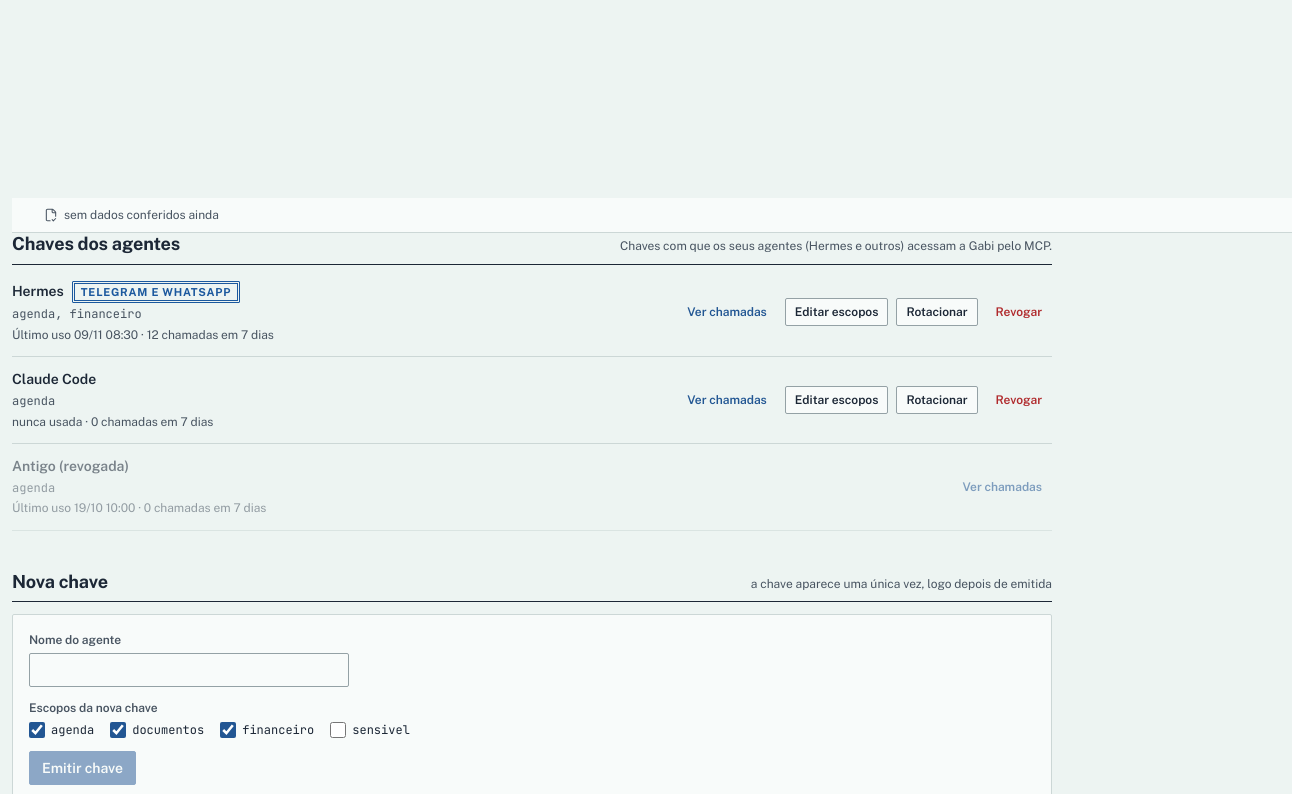
Test: Cancelar em editar escopos descarta a edição
(page scrolled)
Expected: the text "Hermes" is shown, [12,282,64,302]
Step 1. Click the button with aria-label "Editar escopos de Claude Code" → (837, 400), box [785,386,888,414]
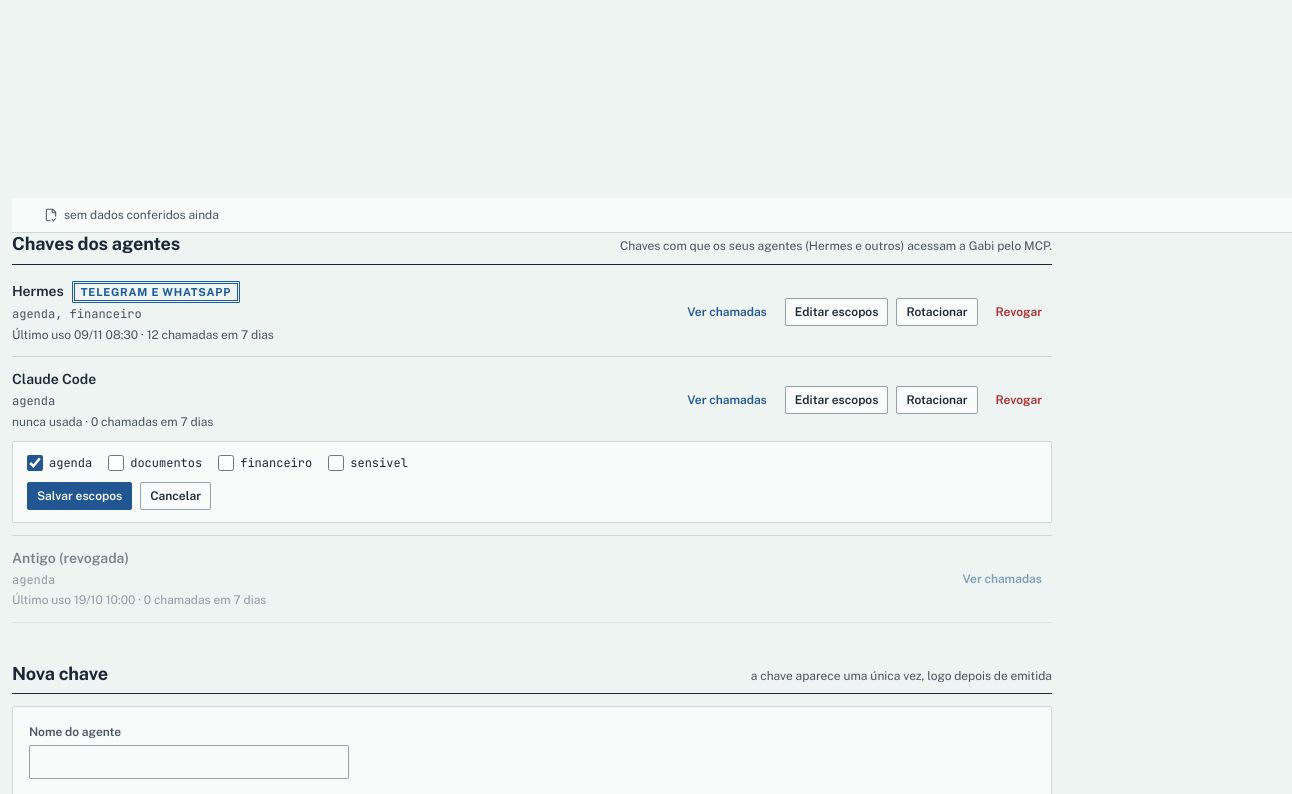
Step 2. Click the checkbox labelled "financeiro" → (226, 463), box [218,455,234,471]
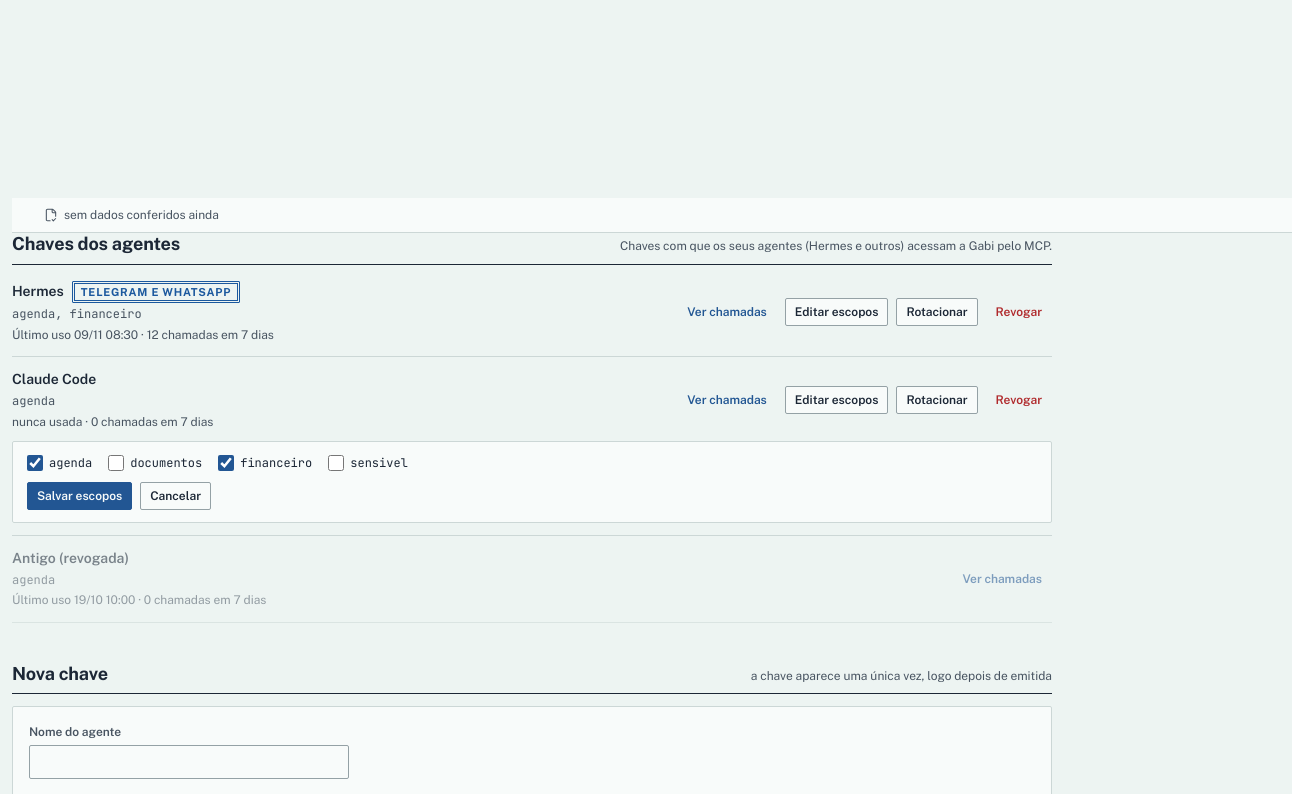
Step 3. Click the button "Cancelar" → (176, 496), box [140,482,211,510]
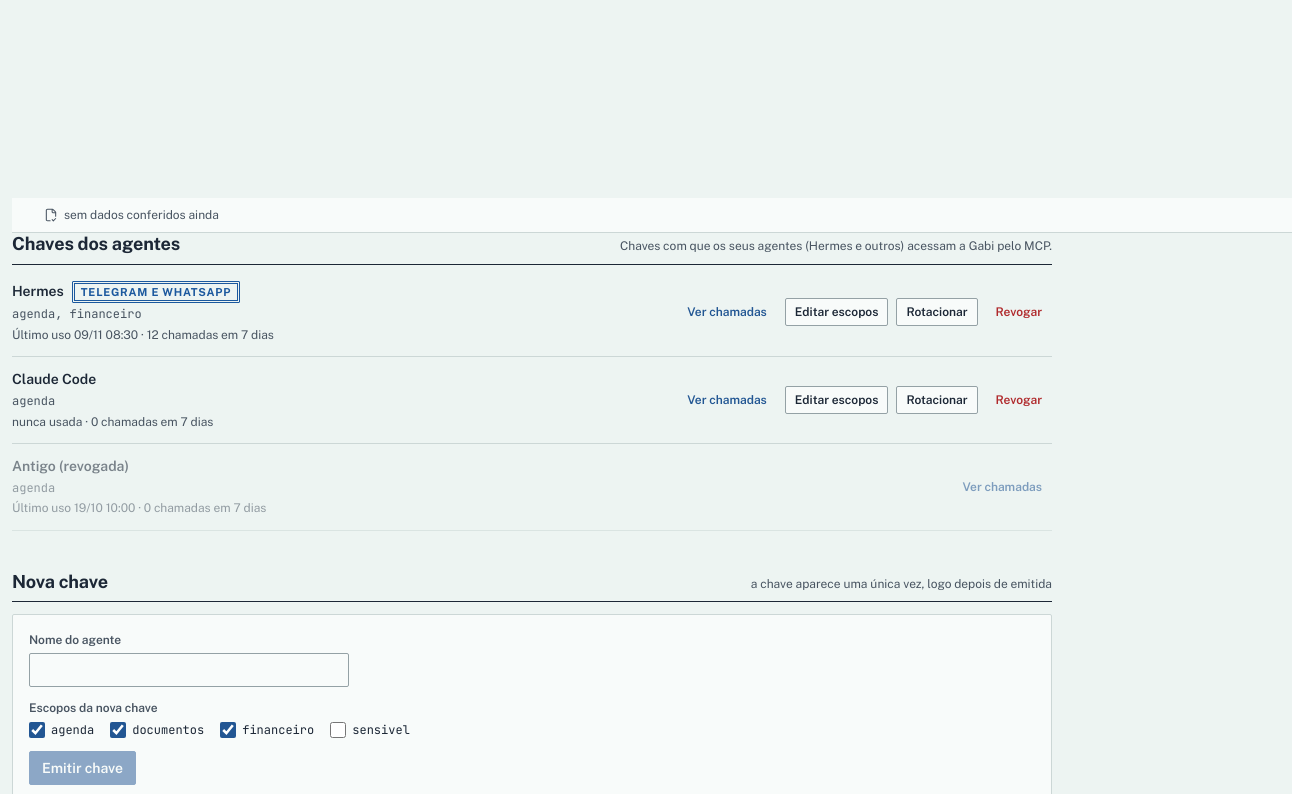
Step 4. Click the button with aria-label "Editar escopos de Claude Code" → (837, 400), box [785,386,888,414]
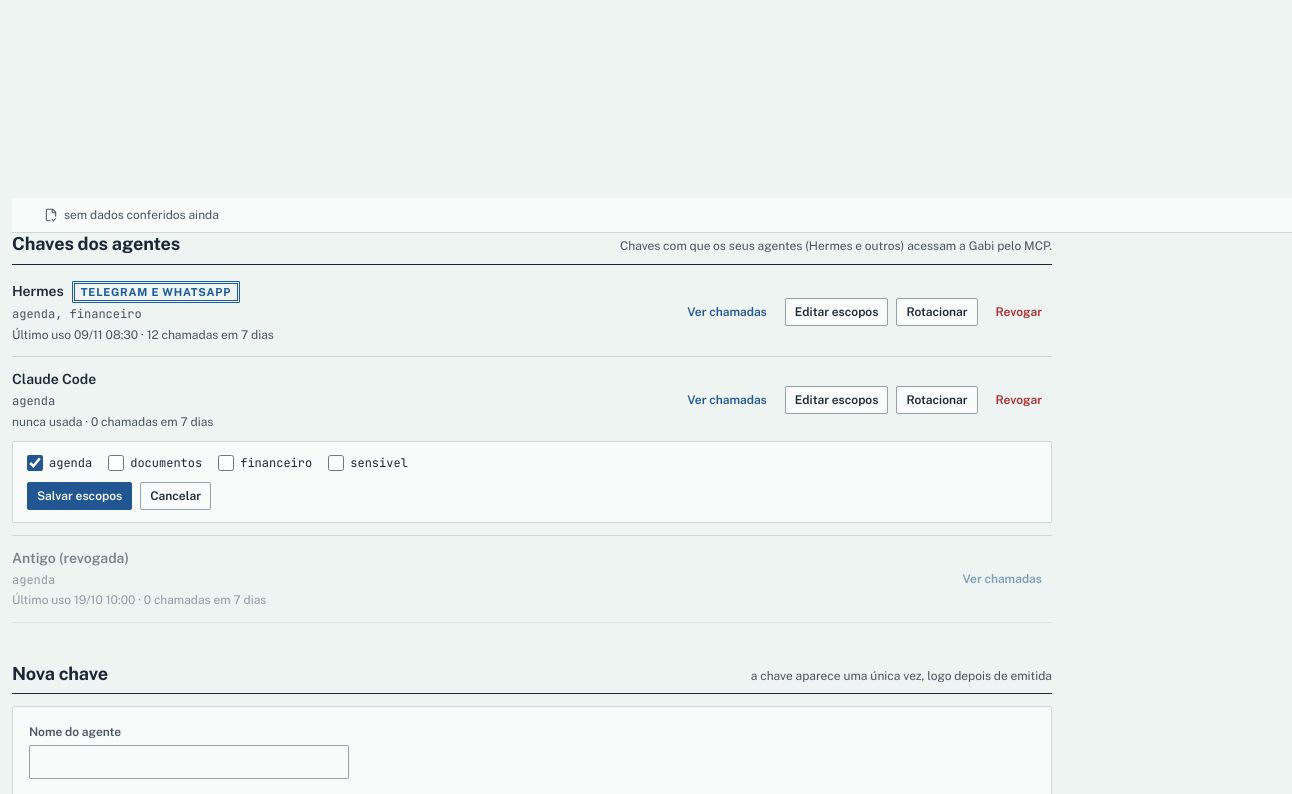
Expected: the checkbox labelled "financeiro" is not checked, [218,455,234,471]
